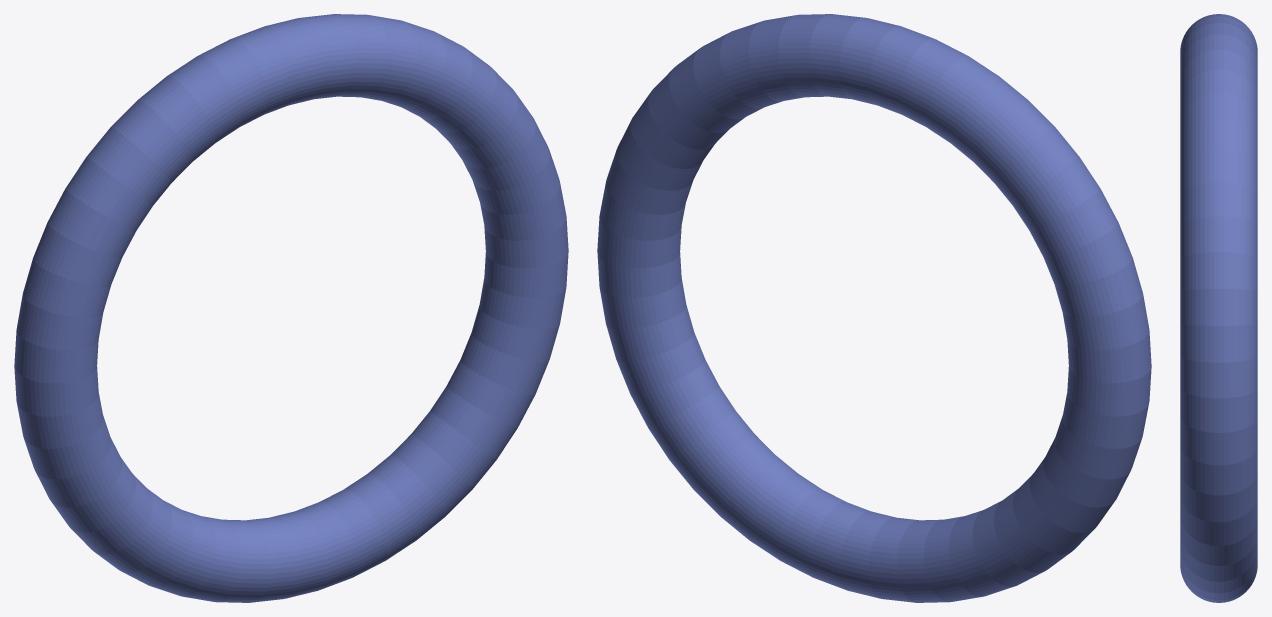
3 renders of one model, left to right at view 1: azimuth 30°, elevation 25°; view 2: azimuth 150°, elevation 25°; view 3: azimuth 270°, elevation 25°, orthographic. The views are drawn at different scales.
Parts seen in each view (by area): view 1: world; view 2: world; view 3: world.
Boxes of the visible parts, x1=… form: world: x1=14, y1=14, x2=568, y2=602; world: x1=597, y1=14, x2=1151, y2=602; world: x1=1180, y1=14, x2=1257, y2=602.
Bounding box in the file's own units: 19.2 × 19.16 × 2.53.
